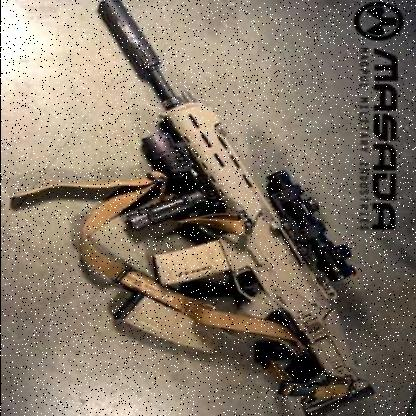rifle: (83, 2, 392, 415)
